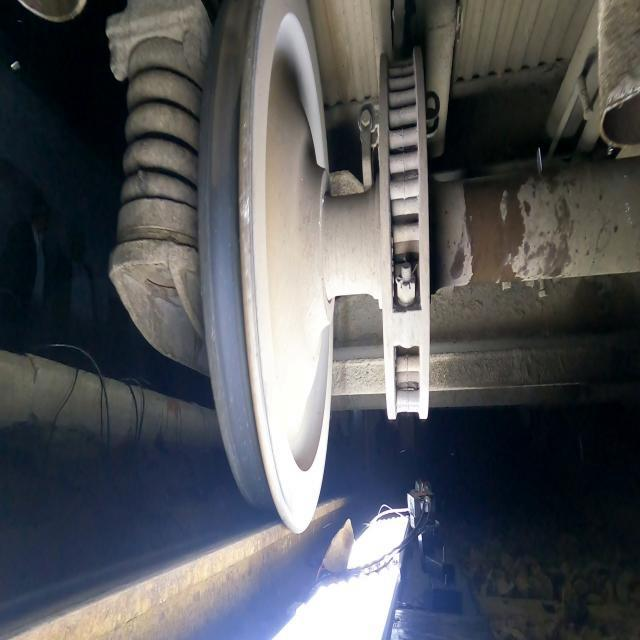Cracks-Scratches: (239, 192, 251, 229)
Shelling: (210, 1, 249, 185)
Wheel: (199, 0, 332, 534)
